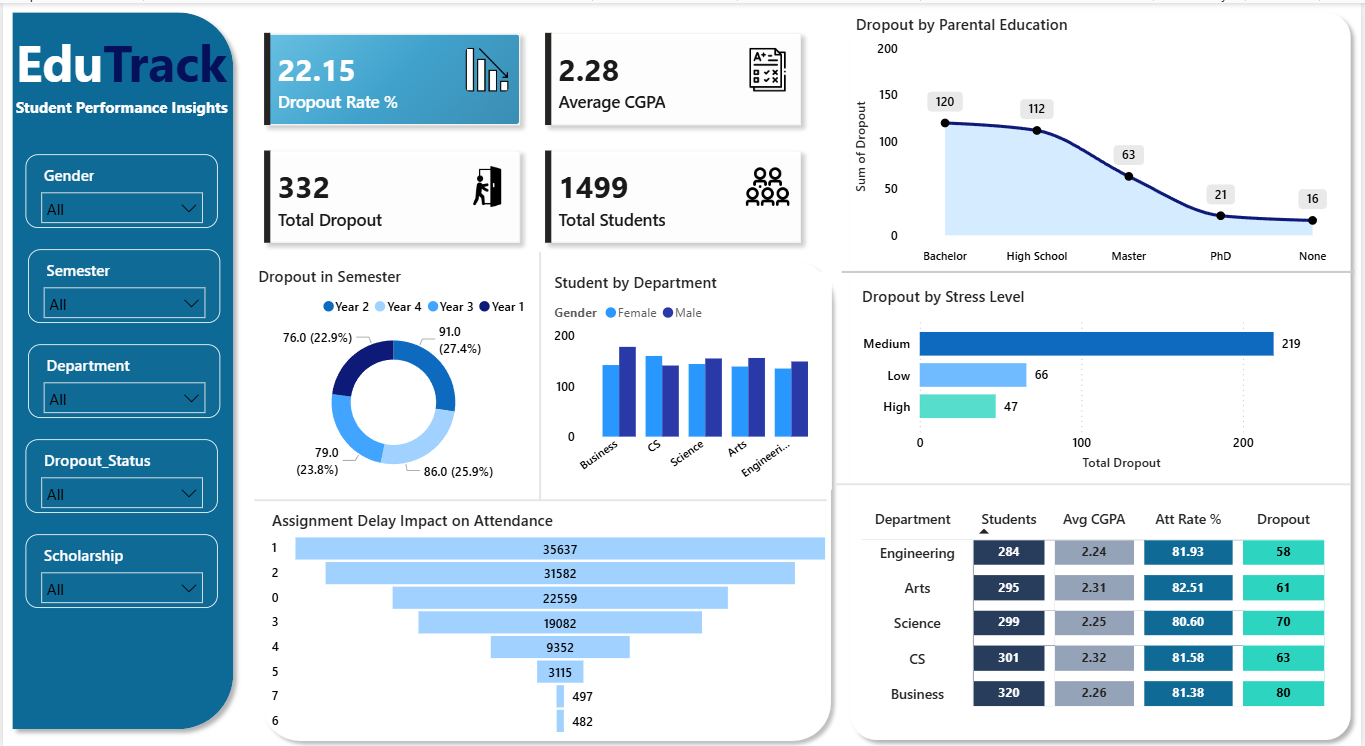

The dashboard page shown, as its layout file describes it:
{"tool":"powerbi","page":{"name":"Page 1","canvas":[1310,720],"ordinal":0},"visuals":[{"type":"shape","box":[0,0,231.2,710],"z":0},{"type":"textbox","box":[5,18.8,218.8,81.2],"z":1000},{"type":"textbox","box":[7.3,85.6,218.9,36.7],"z":2000},{"type":"cardVisual","fields":{"Data":["Student droput dataset.Dropout Rate %","Student droput dataset.Average CGPA","Student droput dataset.Total Dropout","Student droput dataset.Totel Students"]},"box":[223.2,0,576.7,261.8],"z":3000},{"type":"shape","box":[240.9,239.7,566.2,480.6],"z":4000},{"type":"donutChart","title":" Dropout in Semester","fields":{"Y":["Sum(Student droput dataset.Dropout)"],"Category":["Student droput dataset.Semester"]},"box":[240.9,253.1,271.5,216.4],"z":5000},{"type":"clusteredColumnChart","title":"Student by Department","fields":{"Y":["CountNonNull(Student droput dataset.Student_ID)"],"Category":["Student droput dataset.Department"],"Series":["Student droput dataset.Gender"]},"box":[527,259.2,272.7,210.3],"z":6000},{"type":"shape","box":[503.8,239.7,28.1,240.9],"z":7000},{"type":"shape","box":[242.1,456.1,552.7,47.7],"z":8000},{"type":"funnel","title":"Assignment Delay Impact on Attendance","fields":{"Y":["CountNonNull(Student droput dataset.Attendance_Rate)"],"Category":["Student droput dataset.Assignment_Delay_Days"]},"box":[254.3,489.1,549.1,222.6],"z":9000},{"type":"shape","box":[809.5,0,500.1,720.2],"z":10000},{"type":"lineChart","title":"Dropout by Parental Education","fields":{"Category":["Student droput dataset.Parental_Education"],"Y":["Sum(Student droput dataset.Dropout)"]},"box":[818.1,9.8,486.7,251.9],"z":11000},{"type":"shape","box":[809.5,245.8,495.2,26.9],"z":12000},{"type":"pivotTable","fields":{"Rows":["Student droput dataset.Department"],"Values":["Student droput dataset.Totel Students","Student droput dataset.Average CGPA","Student droput dataset.Average Attendence","Sum(Student droput dataset.Dropout)"]},"box":[824.2,480.6,465.9,223.8],"z":13000},{"type":"clusteredBarChart","title":"Dropout by Stress Level","fields":{"Category":["Student droput dataset.Stress Level"],"Y":["Student droput dataset.Total Dropout"]},"box":[824.2,272.7,465.9,183.4],"z":14000},{"type":"slicer","fields":{"Values":["Student droput dataset.Gender"]},"box":[22,145.5,185.9,70.9],"z":15000},{"type":"slicer","fields":{"Values":["Student droput dataset.Semester"]},"box":[24.5,237.2,185.9,70.9],"z":16000},{"type":"slicer","fields":{"Values":["Student droput dataset.Department"]},"box":[24.5,328.9,185.9,70.9],"z":17000},{"type":"slicer","fields":{"Values":["Student droput dataset.Dropout_Status"]},"box":[22,420.7,185.9,70.9],"z":18000},{"type":"slicer","fields":{"Values":["Student droput dataset.Scholarship"]},"box":[22,512.4,185.9,70.9],"z":19000},{"type":"shape","box":[803.5,440.4,497.1,48.3],"z":20000}]}

Visuals, with their boxes in screenshot pixels (x1, y1, x2, y2), scaled from the page's 1310x720 canvas onto the 1365x746 screenshot:
shape: <bbox>0, 0, 241, 736</bbox>
textbox: <bbox>5, 19, 233, 104</bbox>
textbox: <bbox>8, 89, 236, 127</bbox>
cardVisual - Student droput dataset.Dropout Rate % x Student droput dataset.Average CGPA: <bbox>233, 0, 833, 271</bbox>
shape: <bbox>251, 248, 841, 745</bbox>
" Dropout in Semester" donutChart: <bbox>251, 262, 534, 486</bbox>
"Student by Department" clusteredColumnChart: <bbox>549, 269, 833, 486</bbox>
shape: <bbox>525, 248, 554, 498</bbox>
shape: <bbox>252, 473, 828, 522</bbox>
"Assignment Delay Impact on Attendance" funnel: <bbox>265, 507, 837, 737</bbox>
shape: <bbox>843, 0, 1364, 745</bbox>
"Dropout by Parental Education" lineChart: <bbox>852, 10, 1360, 271</bbox>
shape: <bbox>843, 255, 1359, 283</bbox>
pivotTable - Student droput dataset.Department x Student droput dataset.Totel Students: <bbox>859, 498, 1344, 730</bbox>
"Dropout by Stress Level" clusteredBarChart: <bbox>859, 283, 1344, 473</bbox>
slicer - Student droput dataset.Gender: <bbox>23, 151, 217, 224</bbox>
slicer - Student droput dataset.Semester: <bbox>26, 246, 219, 319</bbox>
slicer - Student droput dataset.Department: <bbox>26, 341, 219, 414</bbox>
slicer - Student droput dataset.Dropout_Status: <bbox>23, 436, 217, 509</bbox>
slicer - Student droput dataset.Scholarship: <bbox>23, 531, 217, 604</bbox>
shape: <bbox>837, 456, 1355, 506</bbox>
